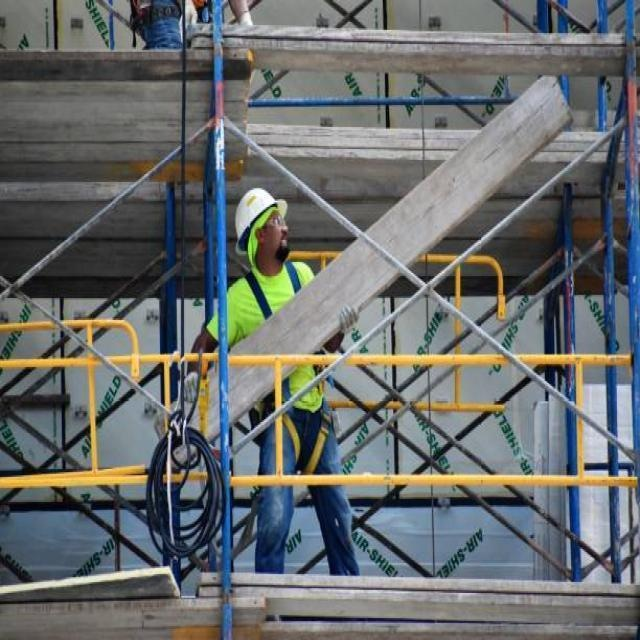Arnes_seguridad: (245, 261, 333, 477)
